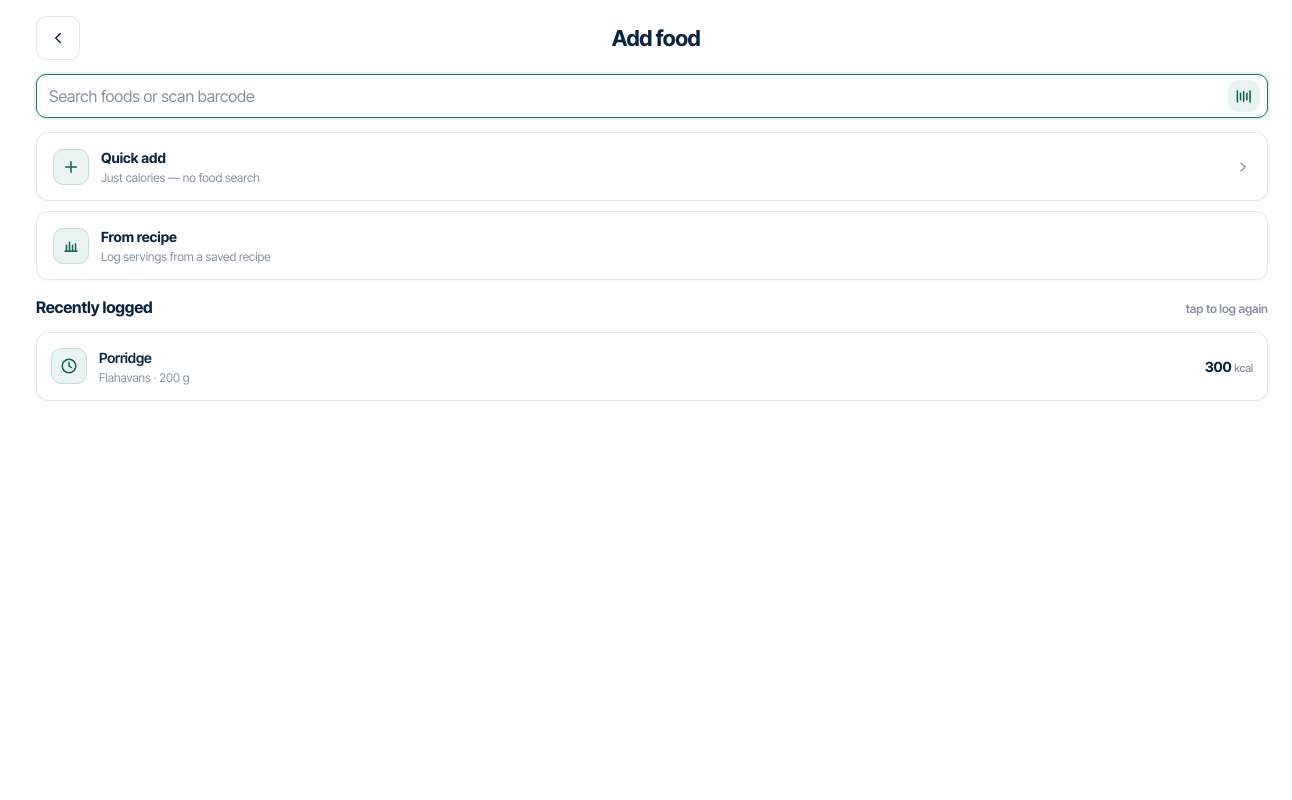
Test: AddFood — recents › opens a recent food pre-filled with the amount last logged
Click the button "Porridge Flahavans · 200 g 300 kcal" at (69, 366), box [37,333,1267,400]
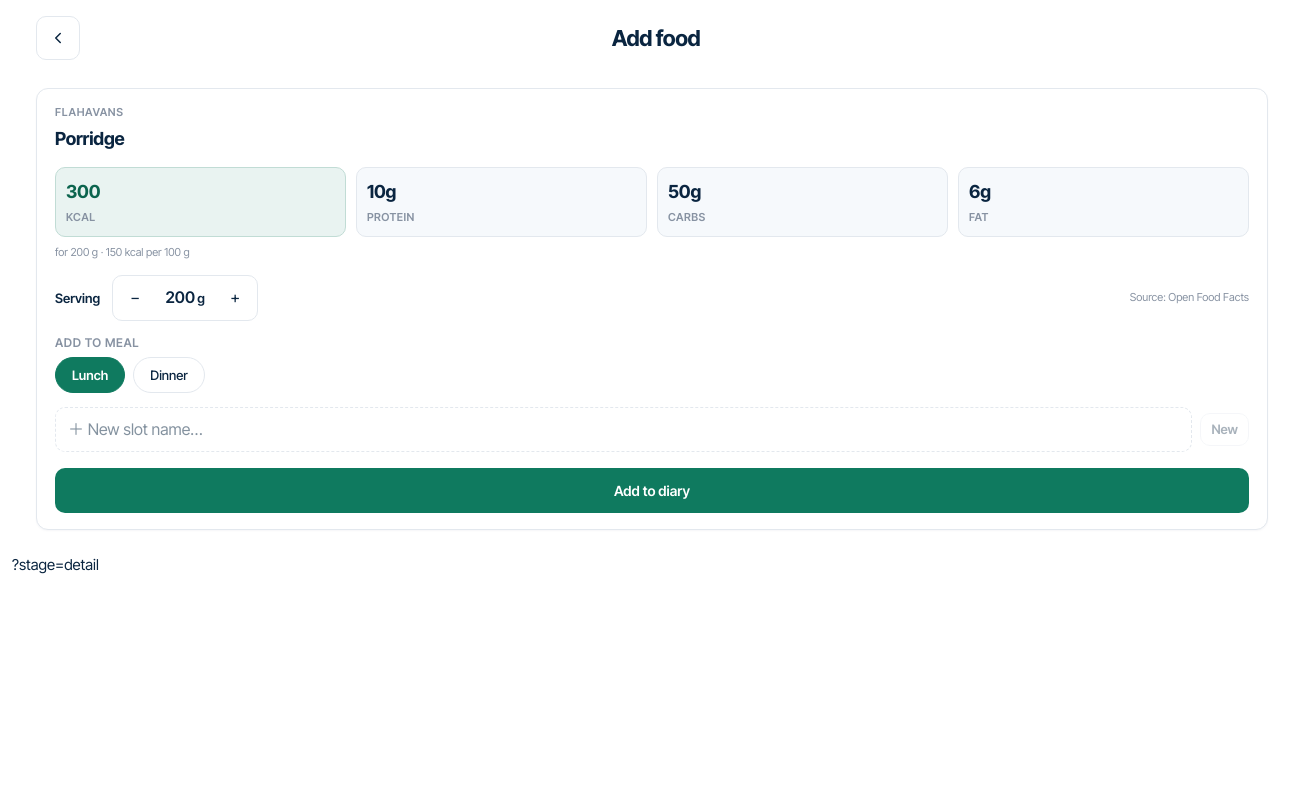
Expected: the text "300" is shown, [66,181,100,202]
Expected: the field named "serving size in grams" holds "200", [165,286,195,309]
